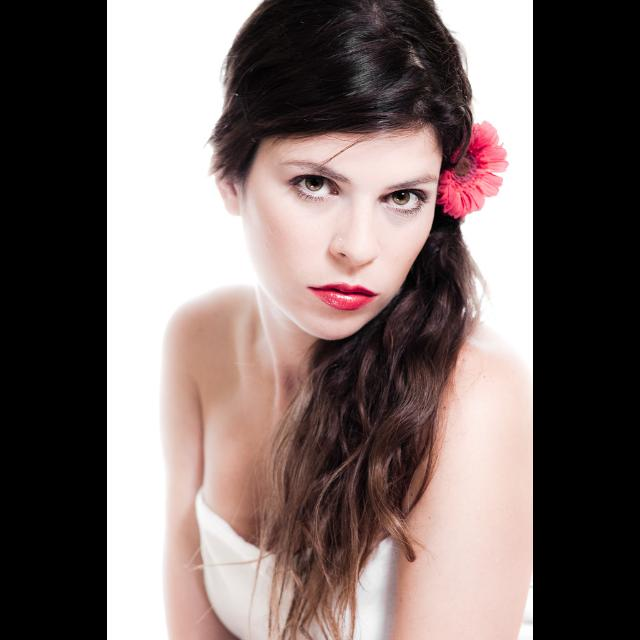Flower: (438, 108, 504, 215)
